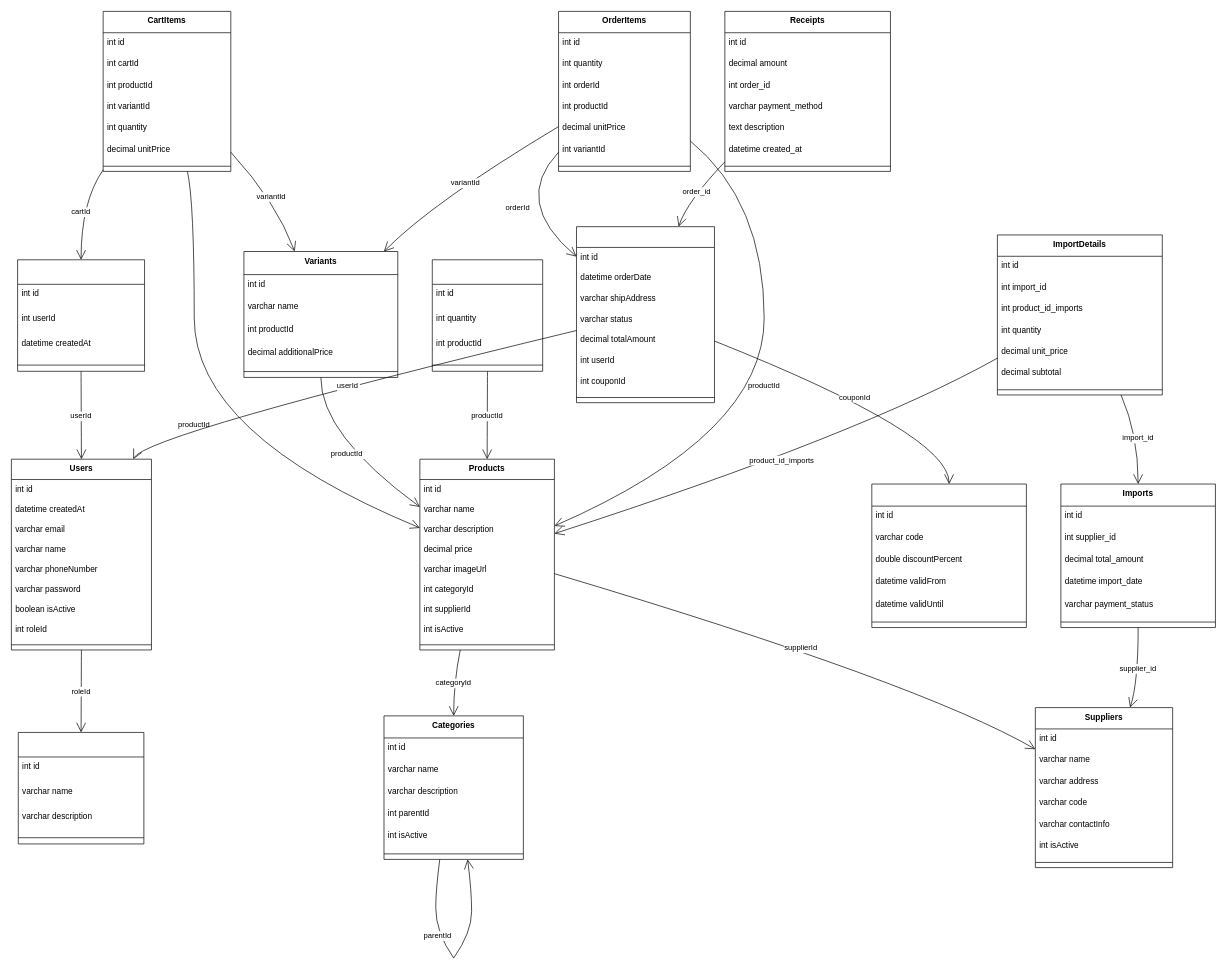
This 1227x969 diagram has some shape labels left out. Each missing label, with the box of its shape:
Carts: (17, 259, 145, 371)
Coupons: (871, 483, 1026, 628)
Inventories: (432, 259, 543, 371)
Orders: (576, 226, 714, 403)
Roles: (18, 732, 144, 844)
